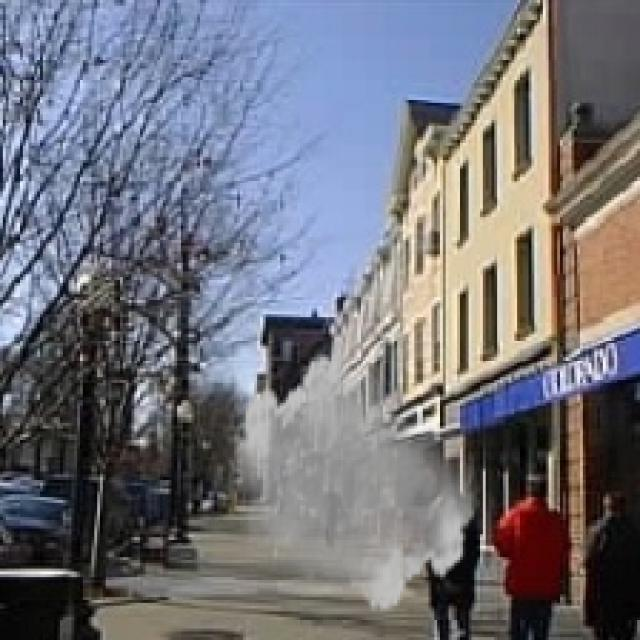smoke: (229, 352, 480, 614)
